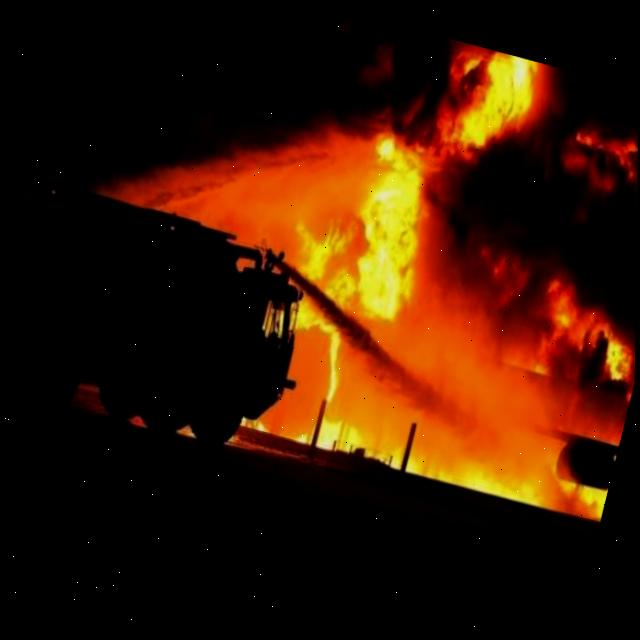fire: (292, 51, 540, 342)
smoke: (278, 61, 639, 516), (26, 2, 465, 246)
